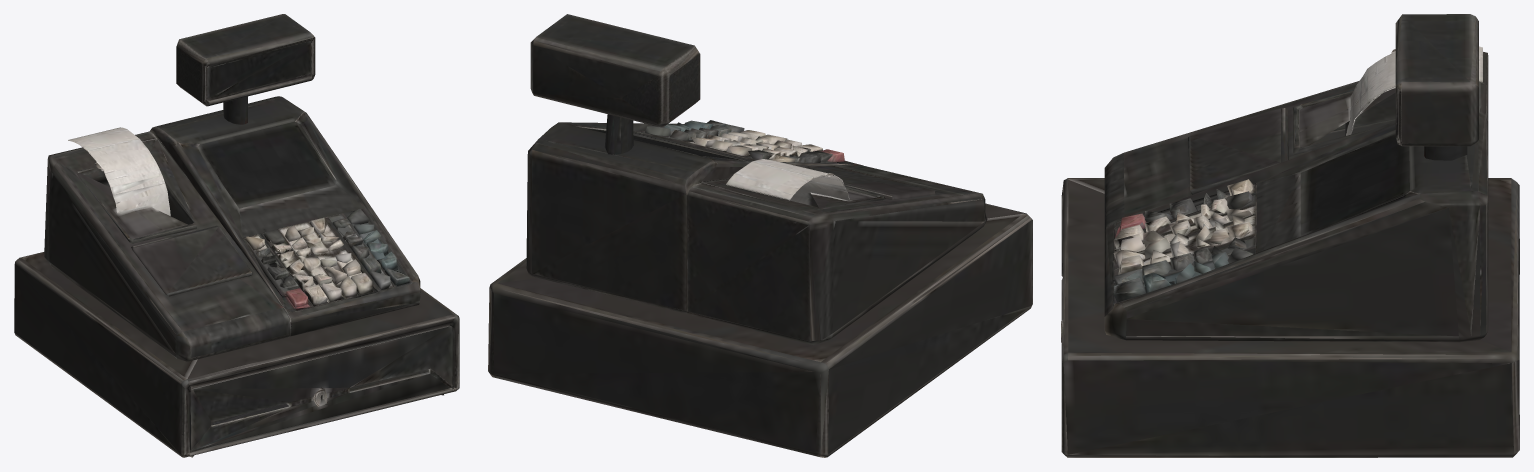
File: p7-cash-register-t25.glb
The picture shows the model from 3 angles, left to right: view 1: azimuth 30°, elevation 25°; view 2: azimuth 150°, elevation 25°; view 3: azimuth 270°, elevation 25°; orthographic projection. The views are drawn at different scales.
Parts seen in each view (by area): view 1: p7-cash-register-t25; view 2: p7-cash-register-t25; view 3: p7-cash-register-t25.
Part boxes in pixels (bbox=[...]): p7-cash-register-t25: bbox=[14, 14, 459, 457]; p7-cash-register-t25: bbox=[488, 14, 1032, 457]; p7-cash-register-t25: bbox=[1061, 14, 1519, 457].
Size of the model in its own units: 0.42 by 0.4 by 0.45.
1 material, 1 textured.
